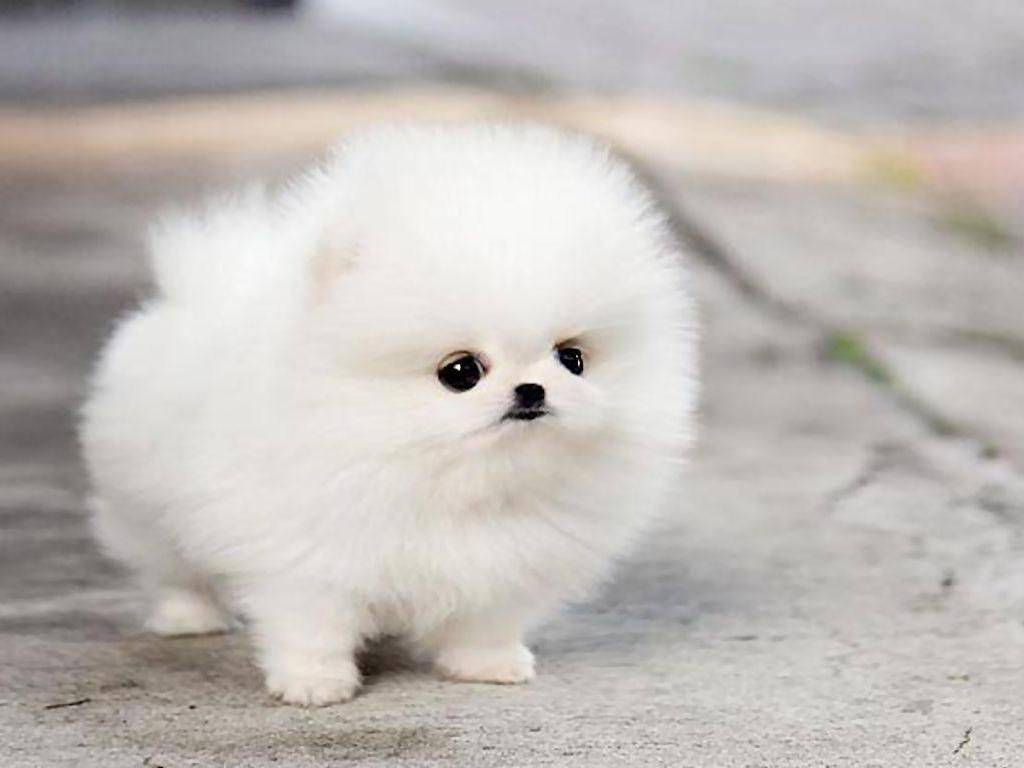dog: (88, 121, 710, 702)
